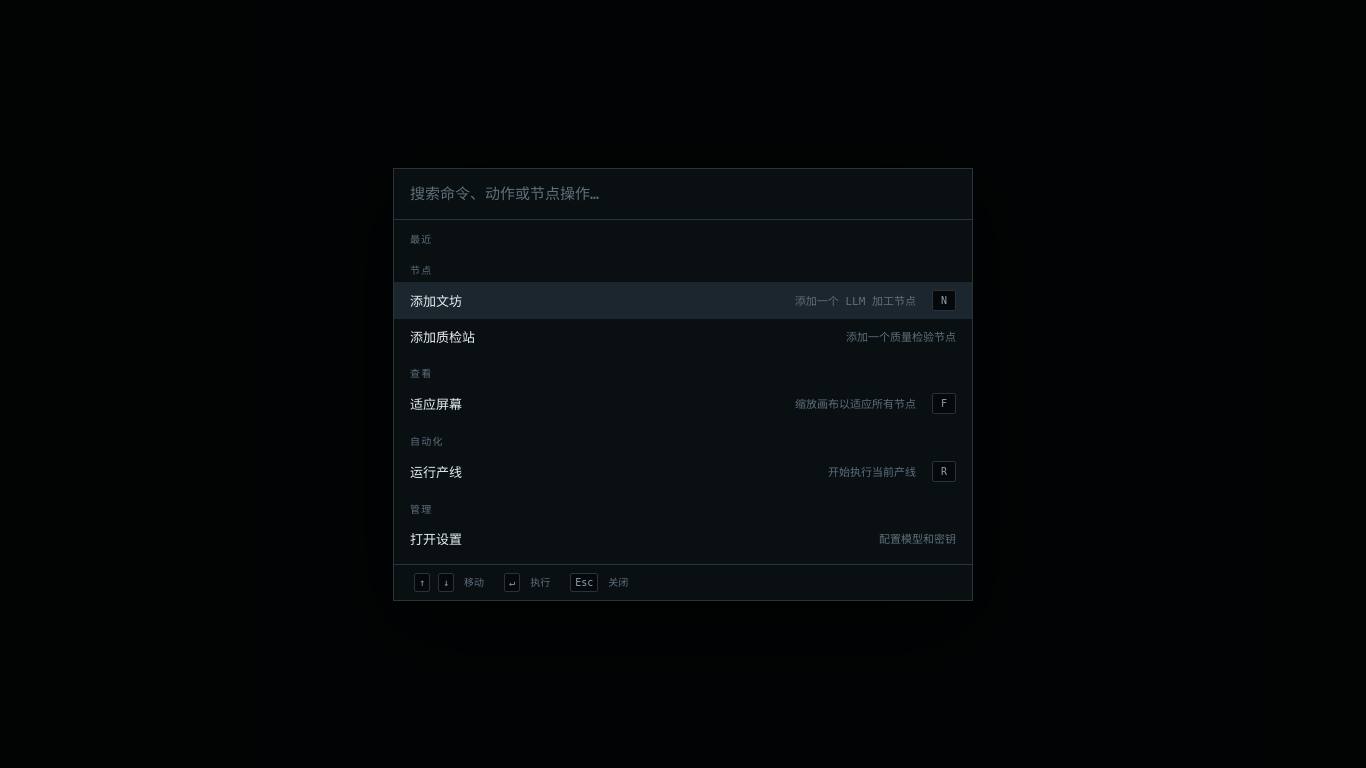
Test: CommandPalette › 搜索过滤 › 搜索匹配 hint
The width and height of the screenshot is (1366, 768).
Step 1. Type "LLM" into the field with placeholder "搜索命令、动作或节点操作…" → (683,194), box x1=394 y1=168 x2=972 y2=220
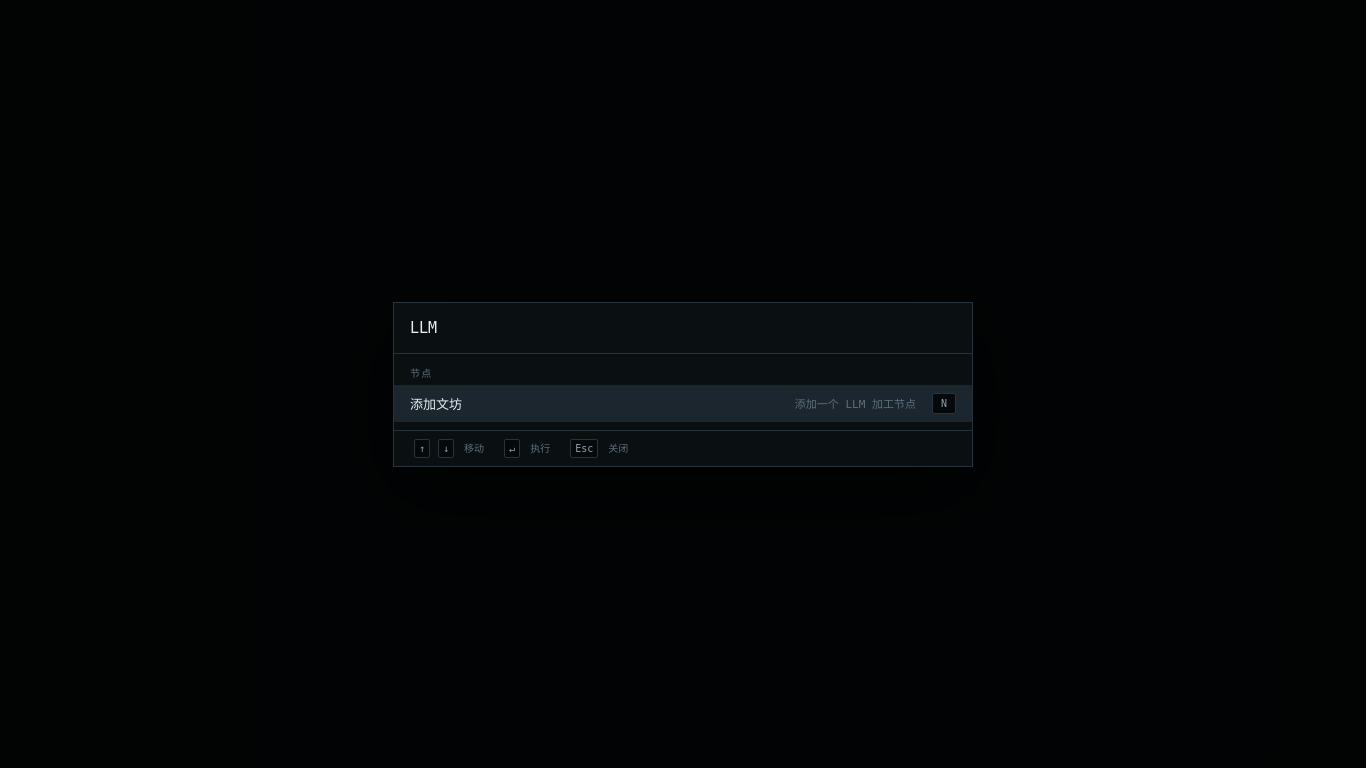
Expected: the text "添加文坊" is shown, x1=410 y1=396 x2=462 y2=412
Result: the button "添加质检站" is gone
